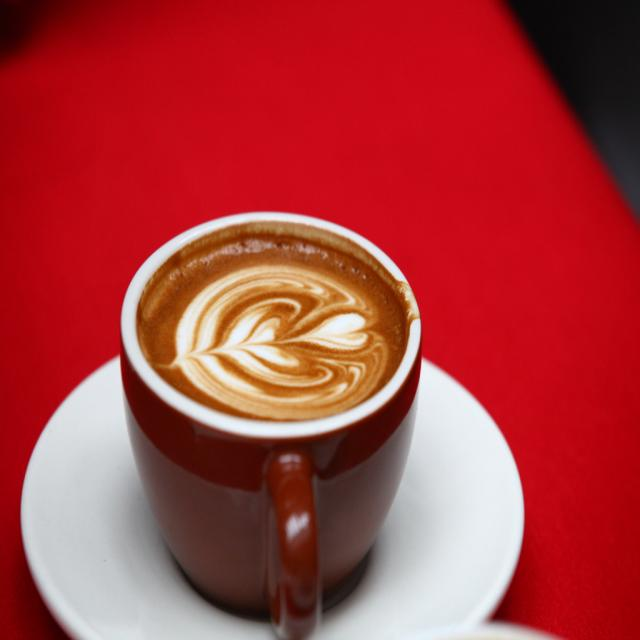Coffee: (137, 218, 415, 421)
